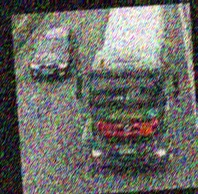truck: (73, 3, 186, 175)
